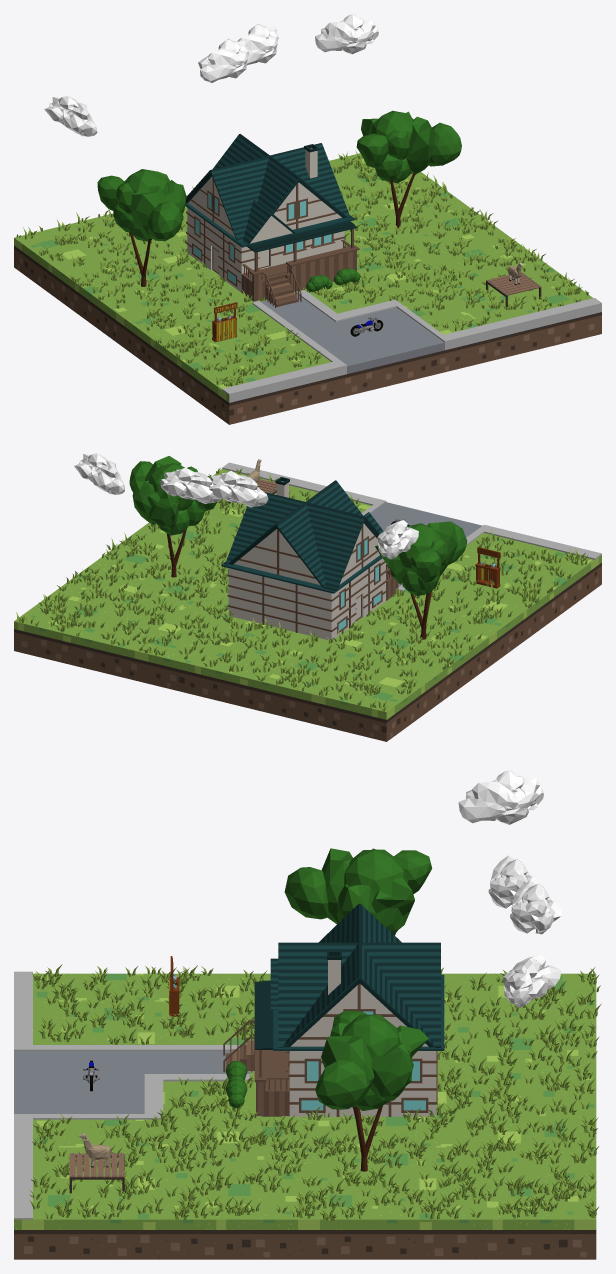
3 renders of one model, top to bottom at view 1: azimuth 30°, elevation 25°; view 2: azimuth 150°, elevation 25°; view 3: azimuth 270°, elevation 25°, orthographic. The views are drawn at different scales.
Parts seen in each view (by area): view 1: Cube.006, Cube.793, Circle.012_Grass_0.192, Cube.007, tree, tree.001, Cube.009, OBJRANDOM_LEMONADE_STAND; view 2: Cube.006, Cube.793, Circle.012_Grass_0.192, Cube.007, tree.001, tree, OBJRANDOM_LEMONADE_STAND; view 3: Cube.006, Circle.012_Grass_0.192, Cube.793, tree, Cube.007, tree.001, Cube.009.
Boxes of the visible parts, left/top/right/bottom form: Cube.006: left=14, top=153, right=601, bottom=424; Cube.793: left=185, top=134, right=359, bottom=307; Circle.012_Grass_0.192: left=16, top=150, right=588, bottom=386; Cube.007: left=44, top=14, right=378, bottom=136; tree: left=356, top=110, right=461, bottom=228; tree.001: left=97, top=169, right=186, bottom=286; Cube.009: left=486, top=272, right=541, bottom=306; OBJRANDOM_LEMONADE_STAND: left=212, top=302, right=237, bottom=342; Cube.006: left=14, top=462, right=601, bottom=741; Cube.793: left=221, top=477, right=398, bottom=640; Circle.012_Grass_0.192: left=16, top=468, right=588, bottom=711; Cube.007: left=74, top=453, right=418, bottom=559; tree.001: left=375, top=521, right=467, bottom=639; tree: left=129, top=456, right=216, bottom=577; OBJRANDOM_LEMONADE_STAND: left=475, top=547, right=500, bottom=588; Cube.006: left=14, top=971, right=596, bottom=1259; Circle.012_Grass_0.192: left=29, top=964, right=601, bottom=1220; Cube.793: left=223, top=903, right=444, bottom=1116; tree: left=315, top=1010, right=428, bottom=1171; Cube.007: left=458, top=770, right=561, bottom=1007; tree.001: left=284, top=848, right=432, bottom=935; Cube.009: left=69, top=1153, right=124, bottom=1193.
Size of the model in its own units: 4071 by 2175 by 4040.
Materials: 31 (4 with a texture image).
